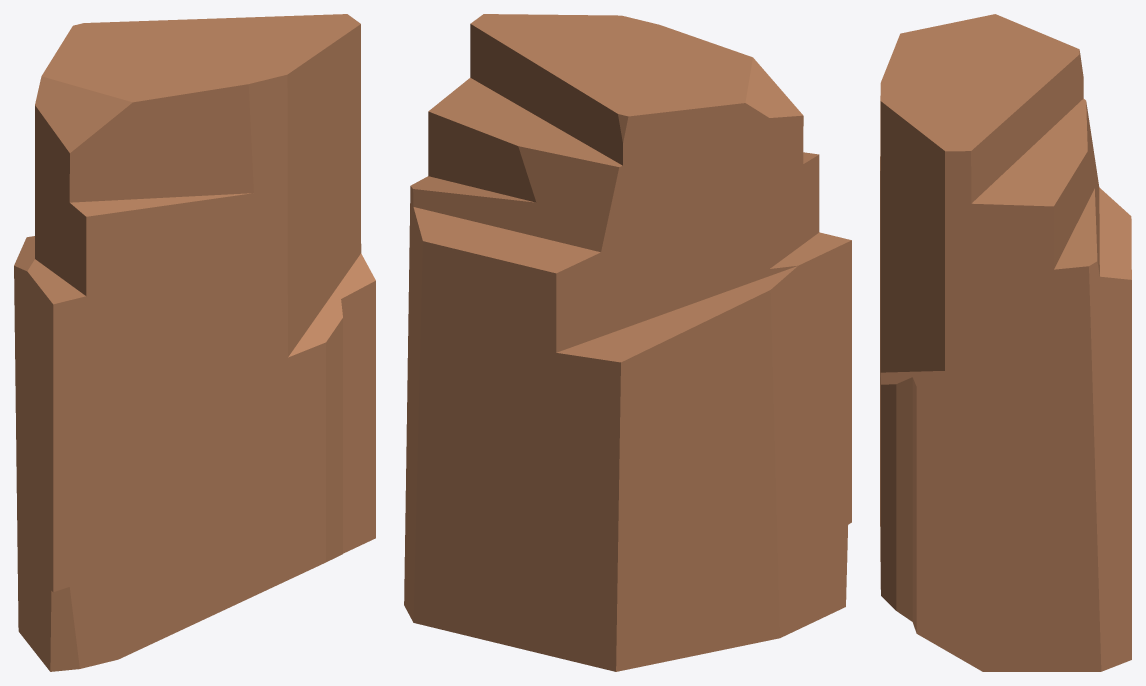
The model's file is DesertRockBig_02.fbx.
The picture shows the model from 3 angles, left to right: view 1: azimuth 30°, elevation 25°; view 2: azimuth 150°, elevation 25°; view 3: azimuth 270°, elevation 25°; orthographic projection. The views are drawn at different scales.
Parts seen in each view (by area): view 1: bigRock_02; view 2: bigRock_02; view 3: bigRock_02.
Boxes of the visible parts, bbox=[...] form: bigRock_02: bbox=[14, 14, 375, 671]; bigRock_02: bbox=[404, 14, 851, 671]; bigRock_02: bbox=[880, 14, 1131, 671].
Size of the model in its own units: 372 by 564 by 247.
